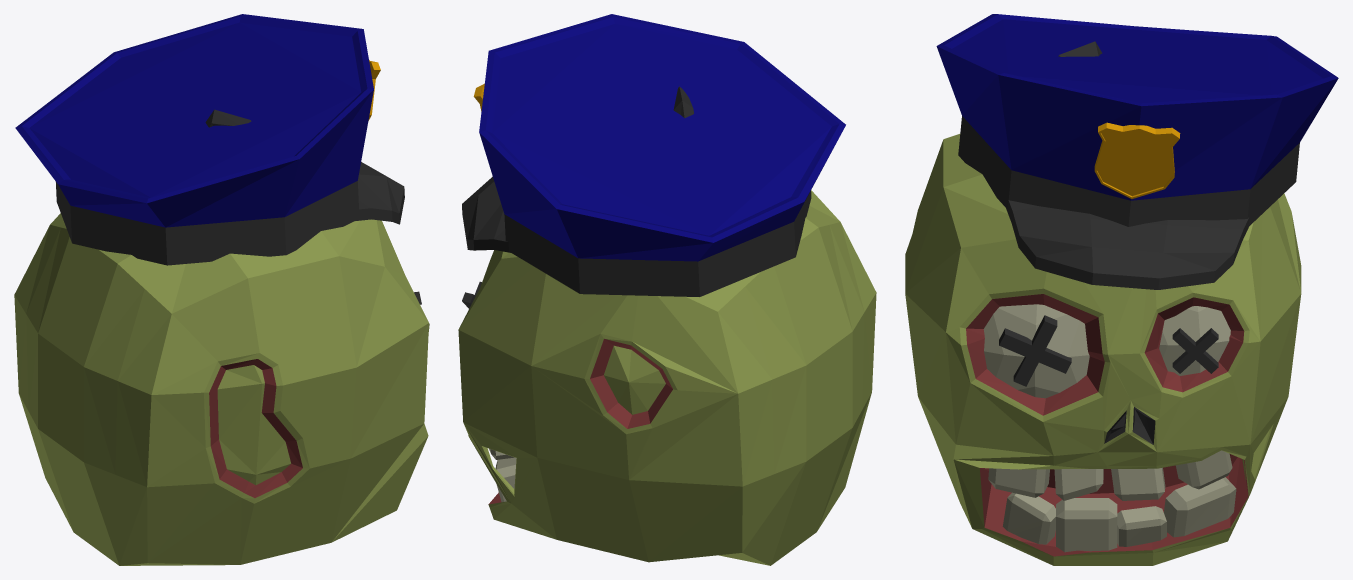
Rendered from 좀비 3 죽는 애니메이션.FBX.
3 renders of one model, left to right at view 1: azimuth 30°, elevation 25°; view 2: azimuth 150°, elevation 25°; view 3: azimuth 270°, elevation 25°, orthographic. The views are drawn at different scales.
Parts seen in each view (by area): view 1: Box003; view 2: Box003; view 3: Box003.
Part boxes in pixels (x1,y1,x2,y2): Box003: (14,14,429,565); Box003: (458,14,876,565); Box003: (905,14,1338,565).
Bounding box in the file's own units: 398 × 408 × 493.
